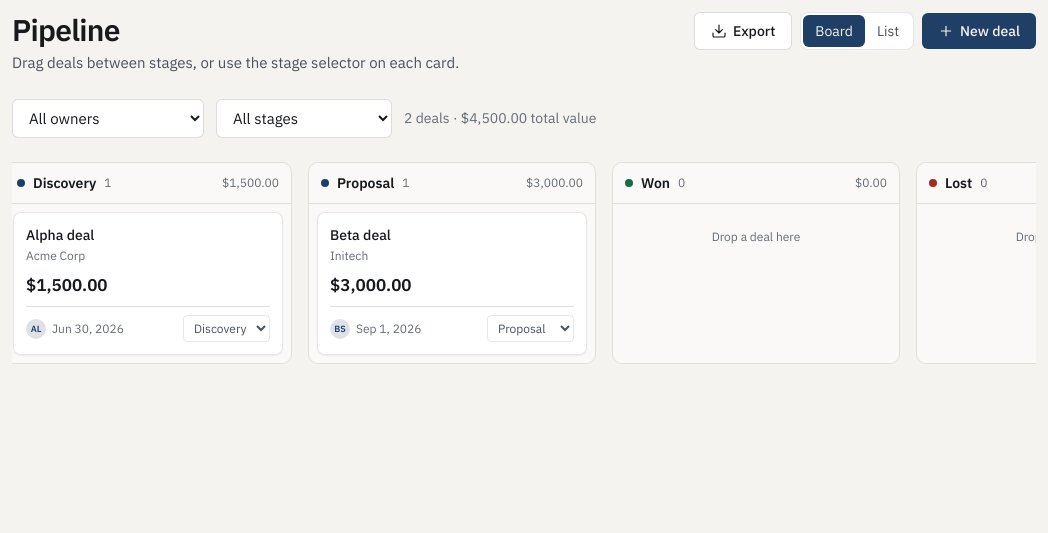
Test: PipelinePage › stage moves › moves a deal straight away when its probability is not manual
This screenshot has width=1048, height=533.
Check: the text "Alpha deal" is shown, box [26,226,94,244]
Select "Proposal" in the dropdown named "Move Alpha deal to stage" at [226, 328], box [183,315,270,342]
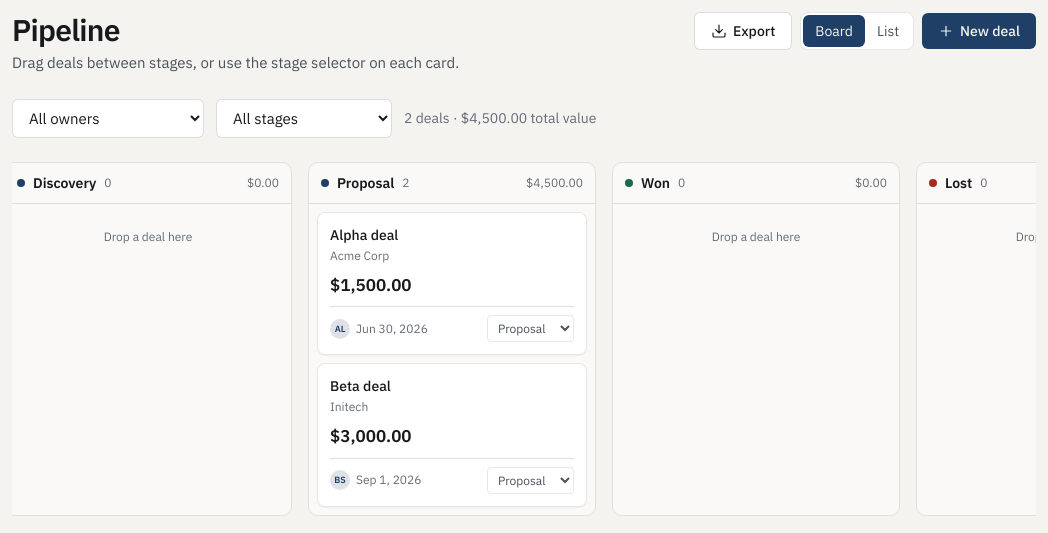
Check: the text "2" is shown, box [402,174,410,192]
Check: the text "0" next to "Discovery" is shown, box [104,174,112,190]
